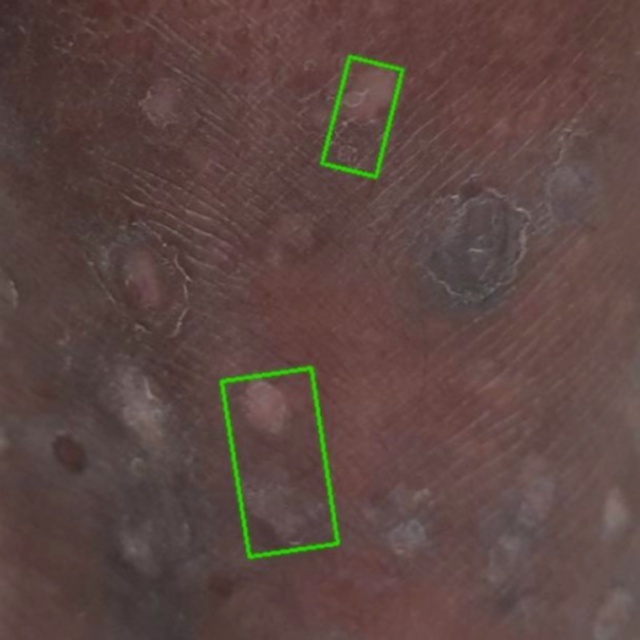Contact Dermatitis: (221, 368, 337, 557), (322, 56, 402, 176)
